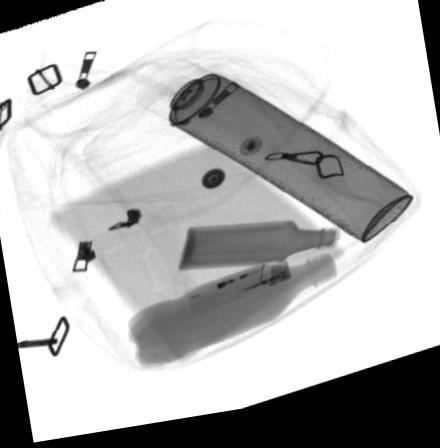Lighter: (183, 262, 290, 322)
Sprayer: (138, 62, 413, 253)
